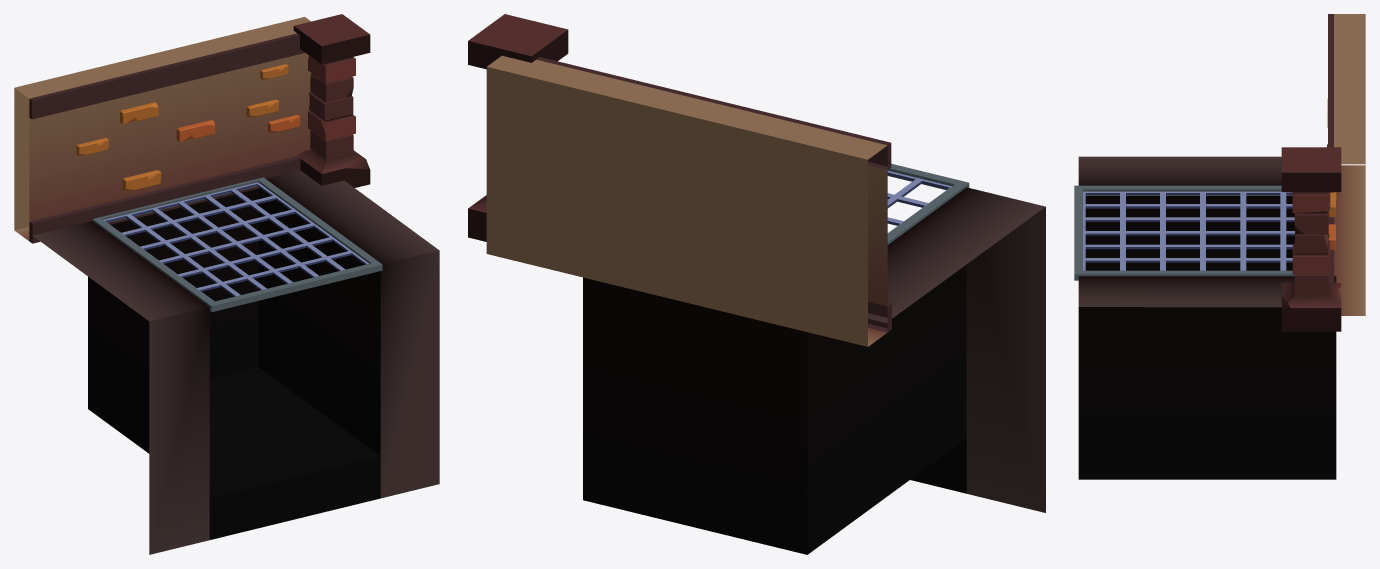
Rendered from Spike_Platform_Env.fbx.
The picture shows the model from 3 angles, left to right: view 1: azimuth 30°, elevation 25°; view 2: azimuth 150°, elevation 25°; view 3: azimuth 270°, elevation 25°; orthographic projection. The views are drawn at different scales.
Parts seen in each view (by area): view 1: Spike_Floor_Env; view 2: Spike_Floor_Env; view 3: Spike_Floor_Env.
Boxes of the visible parts, x1,y1,x2,y2 form: Spike_Floor_Env: (14, 14, 439, 554); Spike_Floor_Env: (468, 14, 1045, 554); Spike_Floor_Env: (1074, 14, 1365, 479).
Size of the model in its own units: 7.63 by 8.59 by 5.73.
